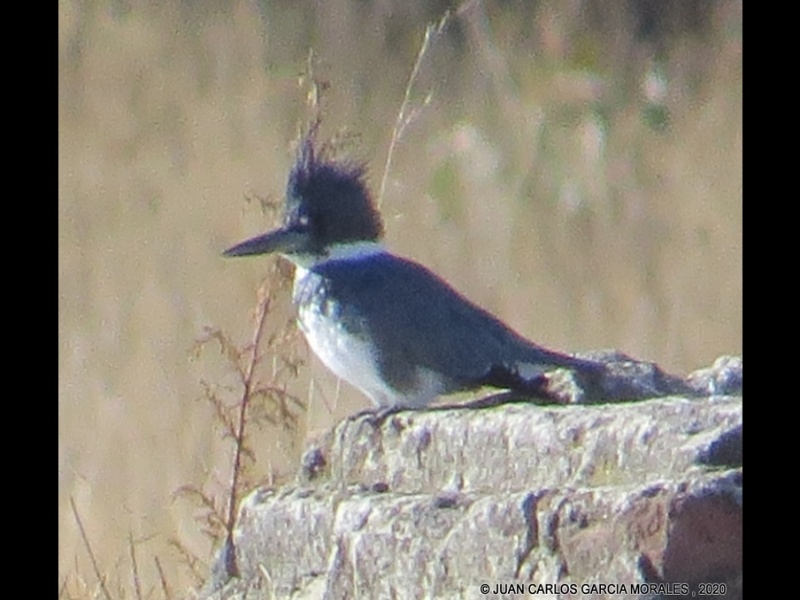kingfisher: (222, 147, 606, 425)
